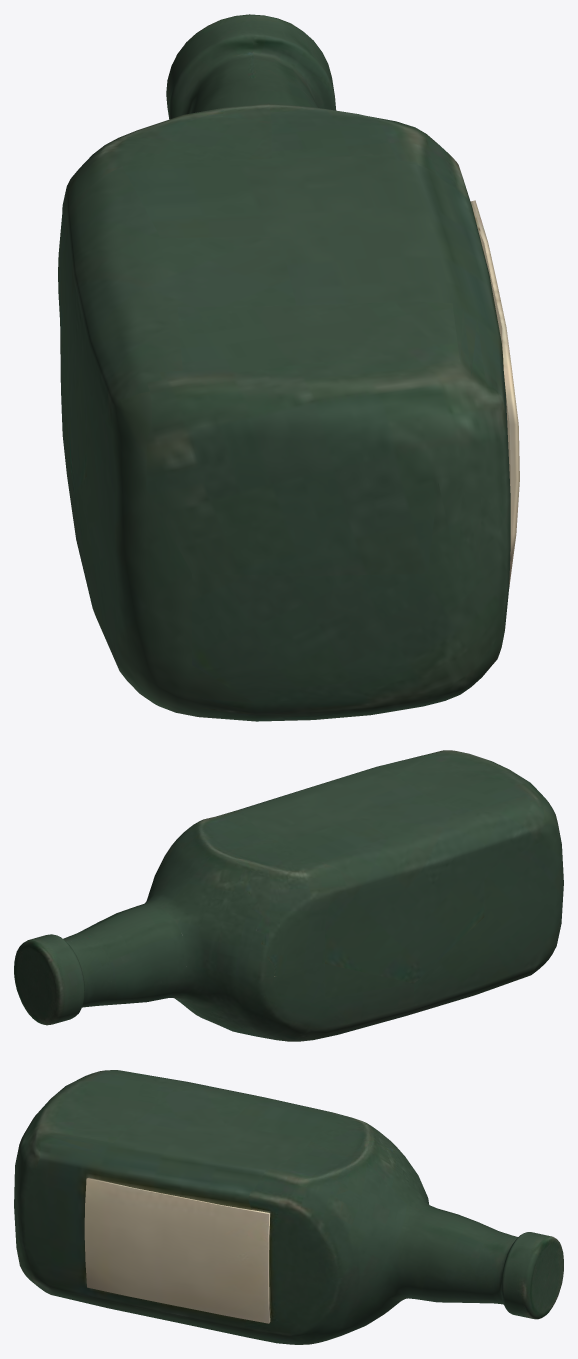
File: bottle.glb
3 renders of one model, top to bottom at view 1: azimuth 30°, elevation 25°; view 2: azimuth 150°, elevation 25°; view 3: azimuth 270°, elevation 25°, orthographic. The views are drawn at different scales.
Visible parts, largest first — view 1: tripo_node_868b09ef-3f20-4c6c-a096-fdbc52af6b68; view 2: tripo_node_868b09ef-3f20-4c6c-a096-fdbc52af6b68; view 3: tripo_node_868b09ef-3f20-4c6c-a096-fdbc52af6b68.
Part boxes in pixels (<box>): tripo_node_868b09ef-3f20-4c6c-a096-fdbc52af6b68: <box>58,14,519,721</box>; tripo_node_868b09ef-3f20-4c6c-a096-fdbc52af6b68: <box>14,750,563,1041</box>; tripo_node_868b09ef-3f20-4c6c-a096-fdbc52af6b68: <box>14,1070,563,1344</box>.
Bounding box in the file's own units: 0.6646 × 0.3433 × 0.9995.
1 material, 1 textured.
